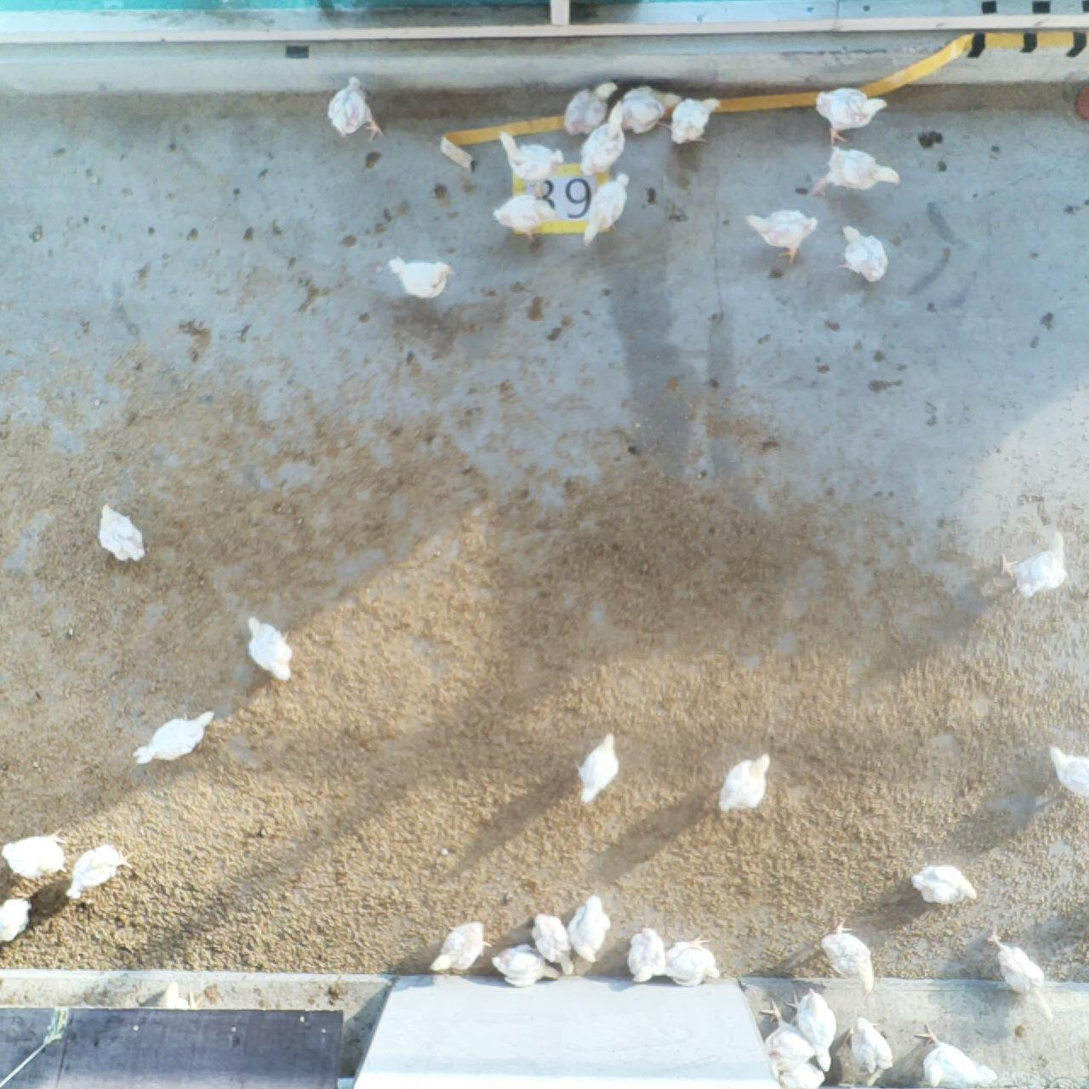chicken: (981, 921, 1059, 1029), (910, 1018, 997, 1089), (130, 702, 218, 771), (997, 527, 1072, 603), (815, 912, 881, 998), (807, 144, 901, 202), (497, 124, 569, 199), (812, 81, 891, 148), (61, 836, 138, 904), (324, 70, 389, 150), (755, 995, 820, 1075), (604, 80, 685, 141), (712, 744, 775, 820), (741, 207, 820, 266), (569, 727, 624, 810), (0, 824, 73, 886), (841, 1012, 899, 1089), (575, 98, 630, 178), (580, 167, 632, 251), (486, 189, 559, 247), (421, 915, 490, 975), (242, 611, 297, 686), (834, 219, 891, 289), (488, 941, 565, 992), (565, 889, 614, 969), (94, 499, 149, 570), (385, 252, 458, 303), (906, 859, 980, 909), (526, 908, 578, 979), (562, 78, 622, 138), (664, 929, 722, 989), (667, 93, 722, 154), (622, 922, 673, 986), (1041, 738, 1089, 803), (0, 893, 36, 947), (775, 1058, 828, 1089)
